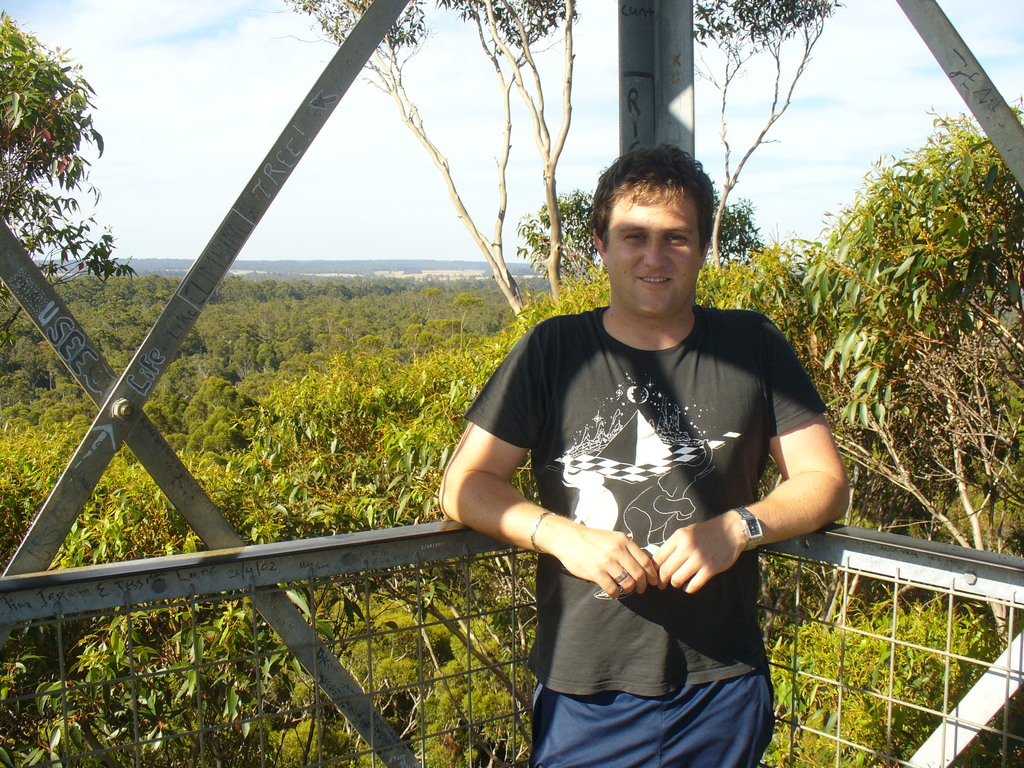Tree: (0, 95, 1023, 767), (261, 0, 847, 325), (747, 117, 1015, 560), (0, 273, 579, 460), (0, 2, 139, 357)
